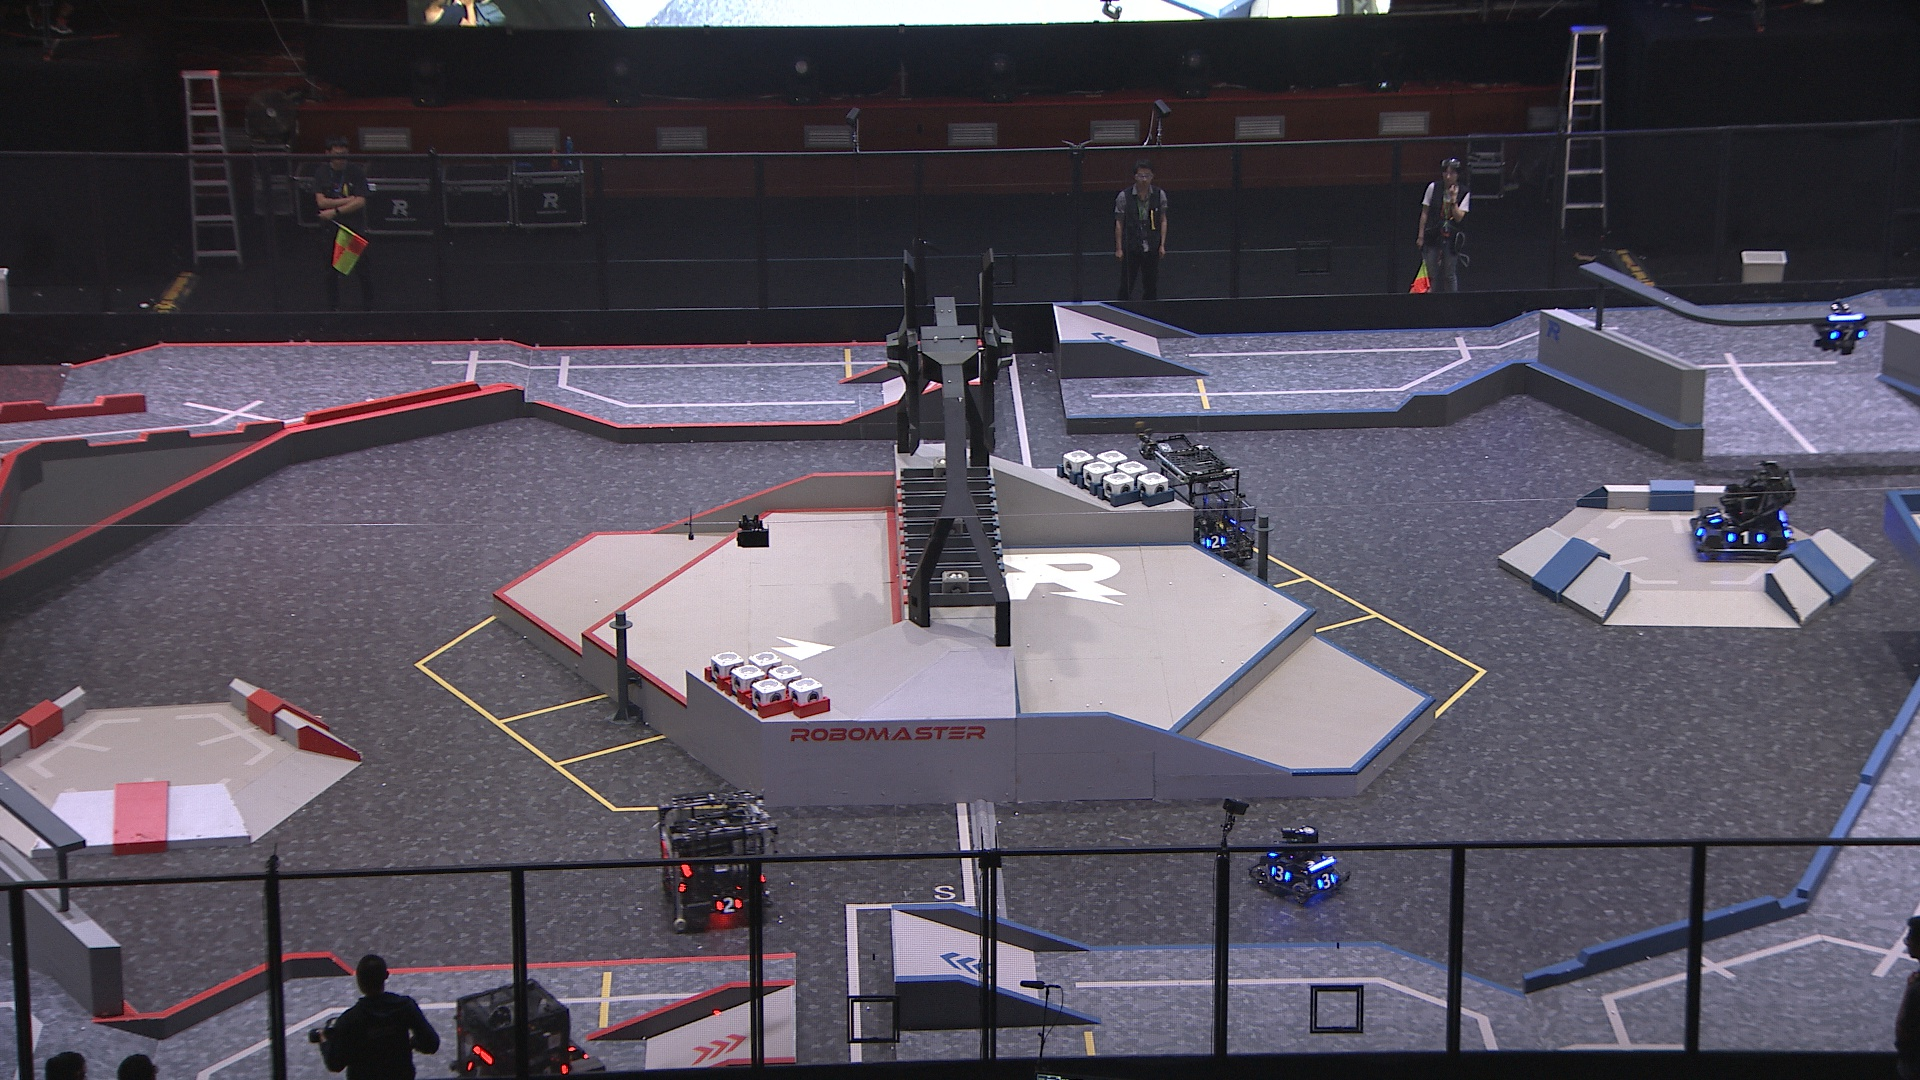armor: (1726, 527, 1768, 547), (531, 1062, 566, 1080), (1832, 324, 1866, 342), (713, 894, 745, 911), (1315, 870, 1335, 891), (1269, 865, 1290, 884), (1205, 534, 1226, 551), (465, 1060, 487, 1077), (1700, 508, 1722, 524), (1695, 518, 1704, 547)
car: (1138, 433, 1255, 579), (657, 793, 775, 928), (454, 978, 595, 1080), (1684, 456, 1799, 564), (1247, 825, 1348, 905)
watcher: (1813, 299, 1871, 353)
